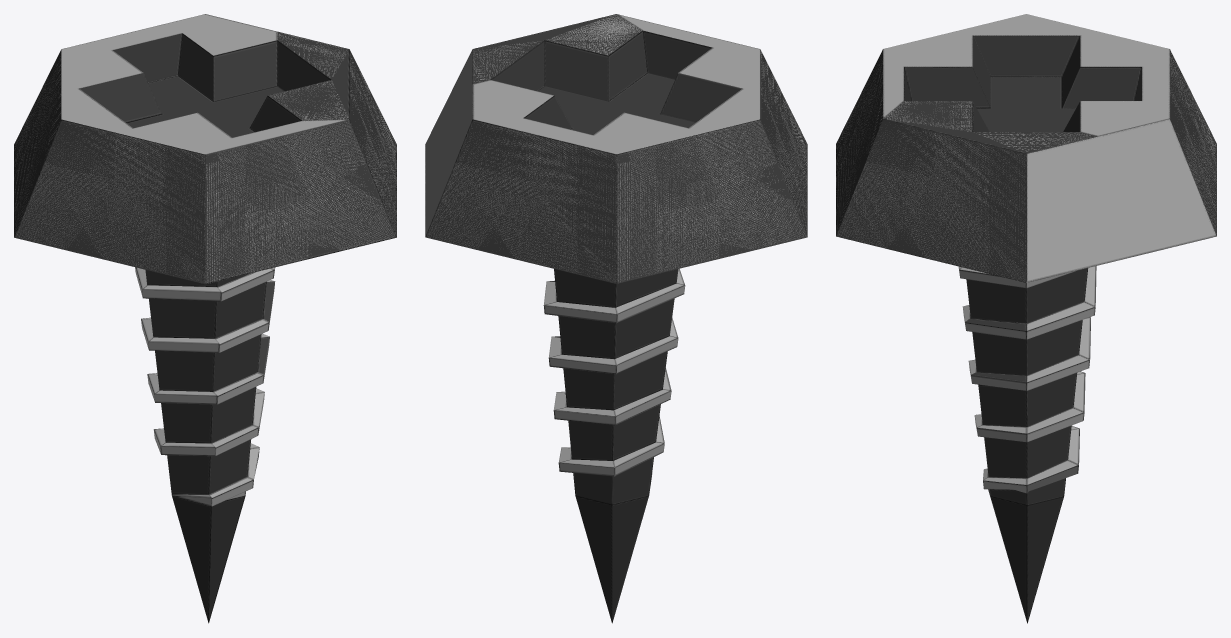
Rendered from obstacle_big.fbx.
3 views of the same model, side by side, from view 1: azimuth 30°, elevation 25°; view 2: azimuth 150°, elevation 25°; view 3: azimuth 270°, elevation 25° (orthographic).
Parts seen in each view (by area): view 1: 球; view 2: 球; view 3: 球.
Part boxes in pixels (<box>): 球: <box>14,14,396,623</box>; 球: <box>425,14,807,623</box>; 球: <box>836,14,1216,623</box>.
Bounding box in the file's own units: 188 × 254 × 163.
